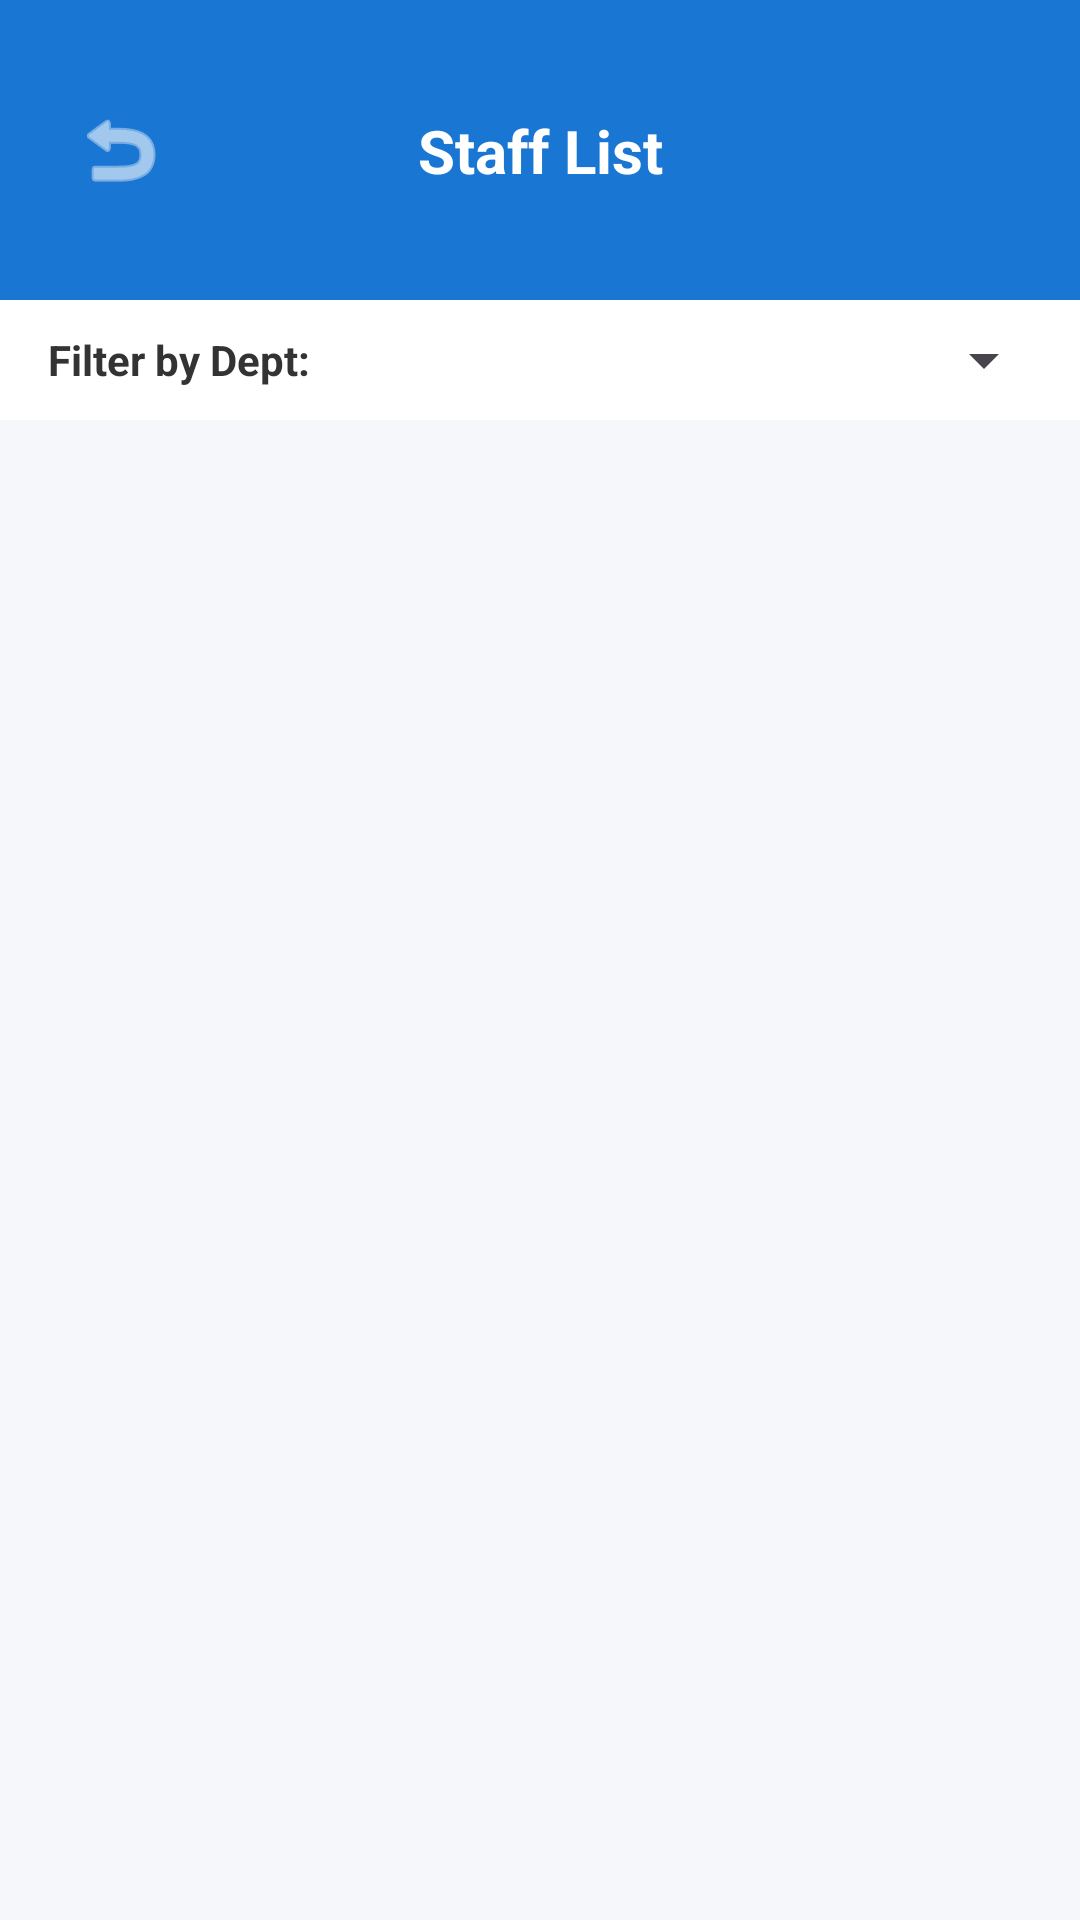

Named icons in this screenshot (1080 × 1920) and their centers, point (x, y):
revert: point (121, 150)
